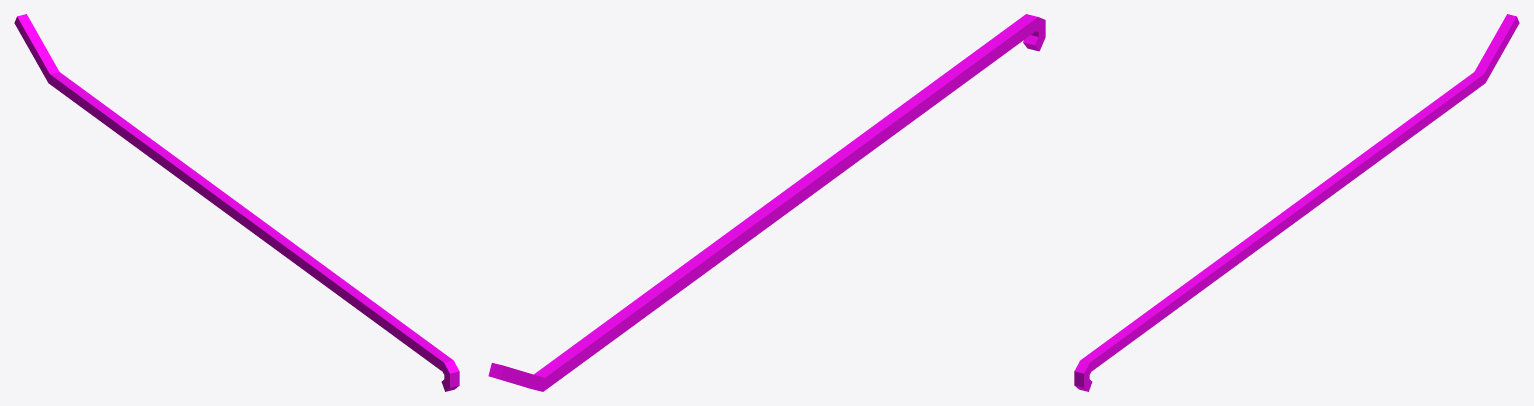
The model's file is original-47.obj.
The picture shows the model from 3 angles, left to right: view 1: azimuth 30°, elevation 25°; view 2: azimuth 150°, elevation 25°; view 3: azimuth 330°, elevation 25°; orthographic projection. The views are drawn at different scales.
Visible parts, largest first — view 1: mesh64/mesh64-geometry#mesh64-geometry; view 2: mesh64/mesh64-geometry#mesh64-geometry; view 3: mesh64/mesh64-geometry#mesh64-geometry.
Boxes of the visible parts, <box> form: mesh64/mesh64-geometry#mesh64-geometry: <box>14,14,459,391</box>; mesh64/mesh64-geometry#mesh64-geometry: <box>488,14,1045,391</box>; mesh64/mesh64-geometry#mesh64-geometry: <box>1074,14,1519,391</box>.
Bounding box in the file's own units: 0.0083 × 0.0512 × 0.6491.
